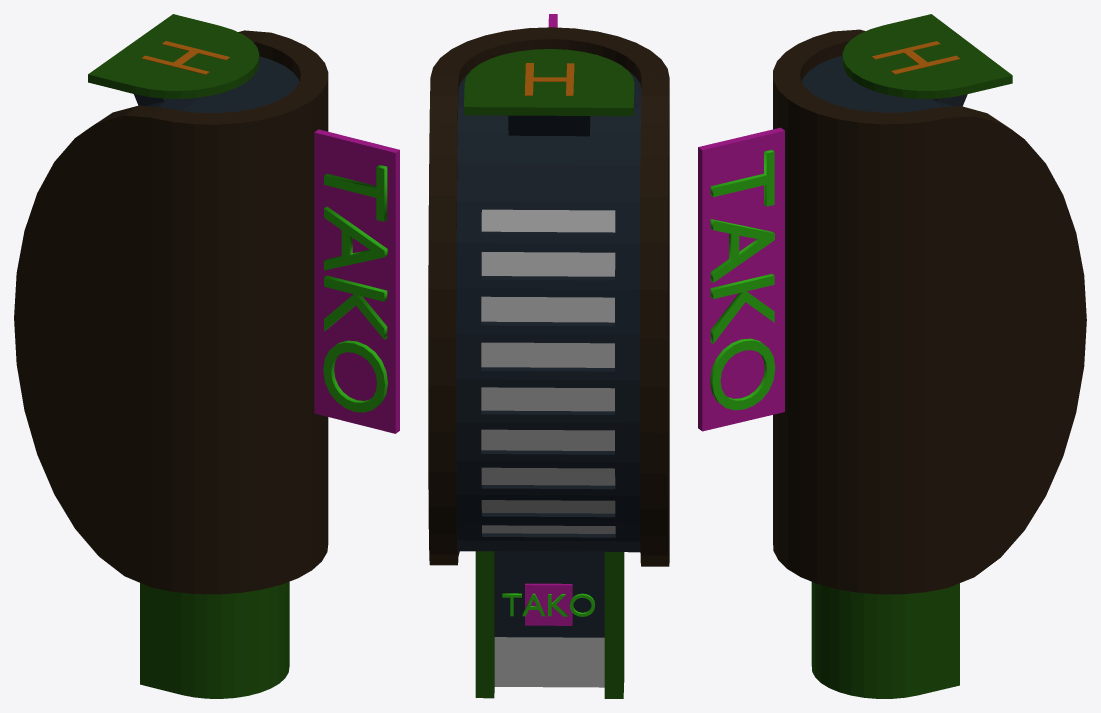
File: tako.obj
3 renders of one model, left to right at view 1: azimuth 30°, elevation 25°; view 2: azimuth 150°, elevation 25°; view 3: azimuth 270°, elevation 25°, orthographic. The views are drawn at different scales.
Parts seen in each view (by area): view 1: Cylinder.001; view 2: Cylinder.001; view 3: Cylinder.001.
Boxes of the visible parts, x1=… form: Cylinder.001: x1=14, y1=14, x2=399, y2=698; Cylinder.001: x1=428, y1=14, x2=669, y2=698; Cylinder.001: x1=698, y1=14, x2=1086, y2=698.
Size of the model in its own units: 15.09 by 33.76 by 19.72.
